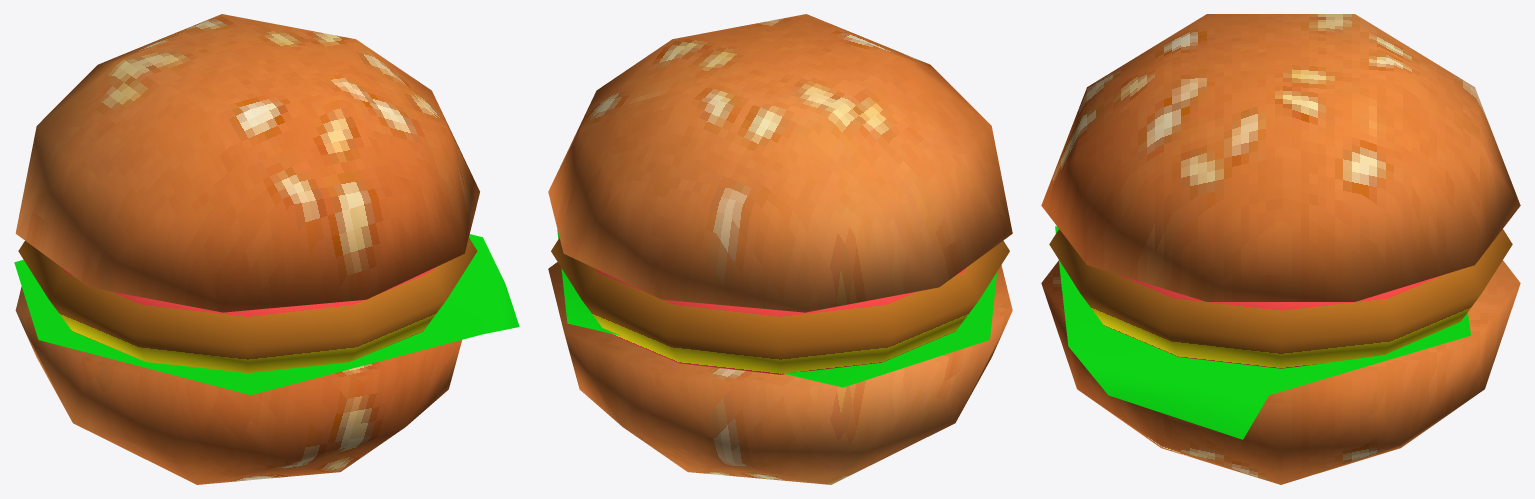
Rendered from amogus-hat-burger.fbx.
3 views of the same model, side by side, from view 1: azimuth 30°, elevation 25°; view 2: azimuth 150°, elevation 25°; view 3: azimuth 270°, elevation 25° (orthographic).
Parts seen in each view (by area): view 1: BurgetHat; view 2: BurgetHat; view 3: BurgetHat.
Boxes of the visible parts, left/top/right/bottom form: BurgetHat: left=14, top=14, right=519, bottom=484; BurgetHat: left=548, top=14, right=1012, bottom=484; BurgetHat: left=1041, top=14, right=1520, bottom=484.
Size of the model in its own units: 79.45 by 72.91 by 67.59.
